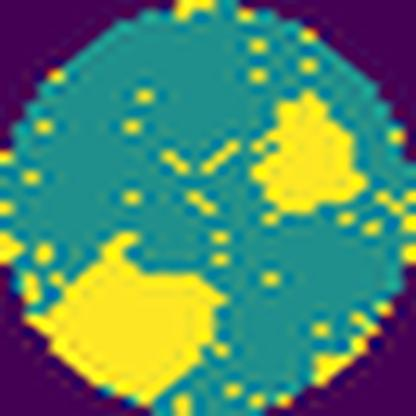Loc: (31, 228, 231, 408), (251, 86, 375, 231)
